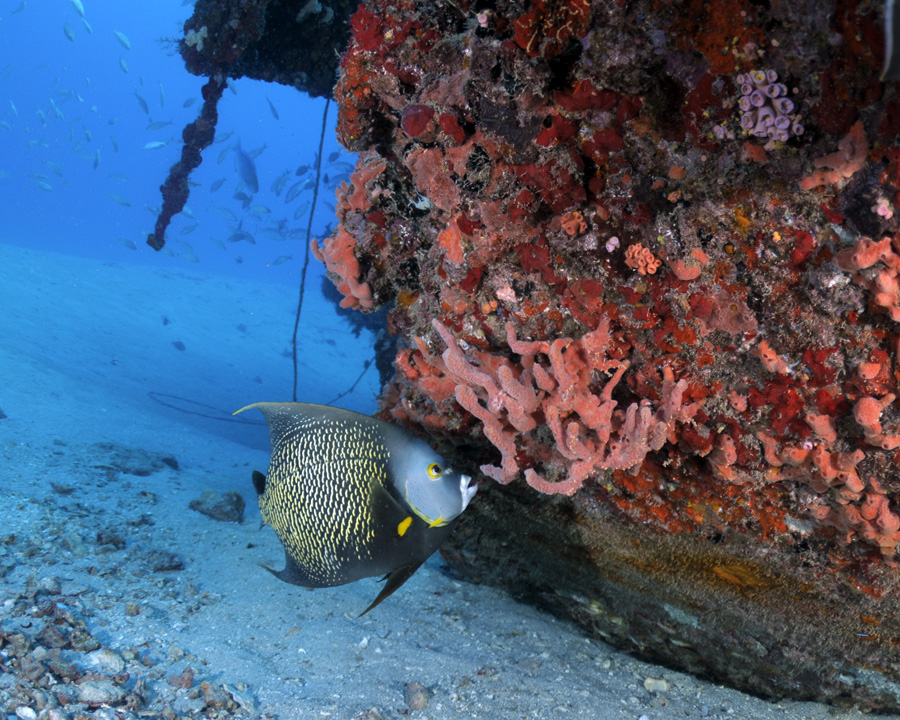Pomacanthus_paru: (225, 376, 492, 626)
